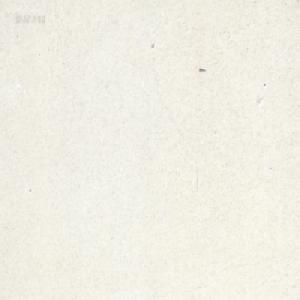Nail: (199, 66, 205, 72)
